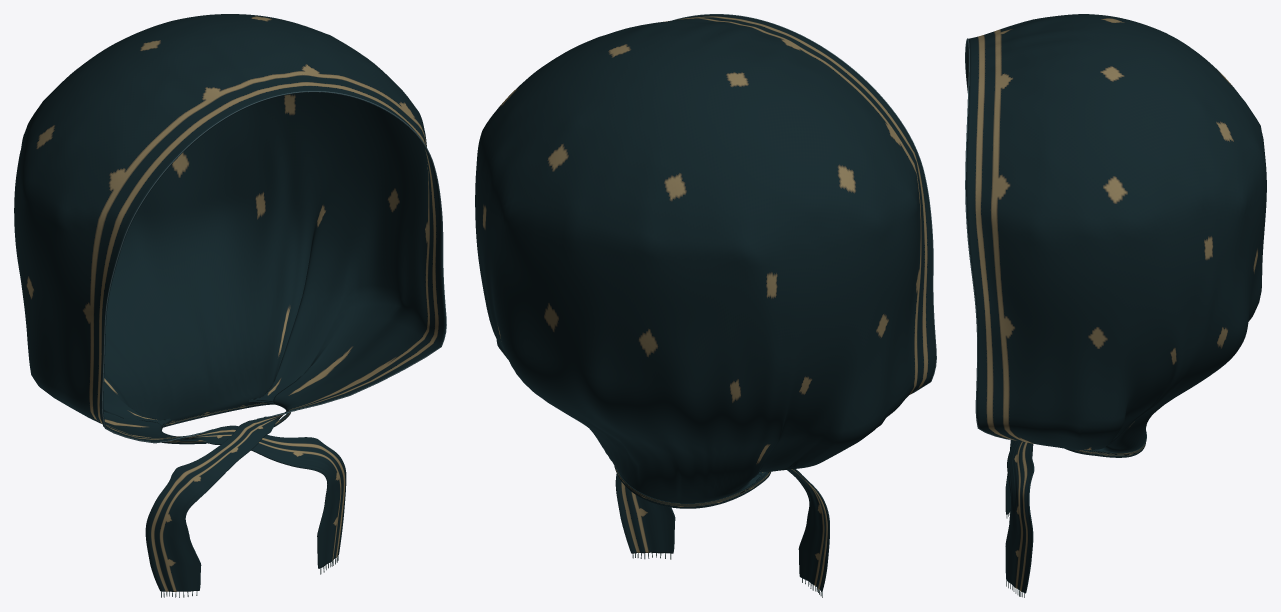
Rendered from Masculine-curly-top-tshirt-pashmina249-headgear.glb.
3 renders of one model, left to right at view 1: azimuth 30°, elevation 25°; view 2: azimuth 150°, elevation 25°; view 3: azimuth 270°, elevation 25°, orthographic. The views are drawn at different scales.
Visible parts, largest first — view 1: 226 headgear / Headwear / continuous woven pashmina239, 226 headgear / Headwear / face edge239; view 2: 226 headgear / Headwear / continuous woven pashmina239, 226 headgear / Headwear / face edge239; view 3: 226 headgear / Headwear / continuous woven pashmina239, 226 headgear / Headwear / face edge239.
Part boxes in pixels (bbox=[...]): 226 headgear / Headwear / continuous woven pashmina239: bbox=[14, 14, 445, 591]; 226 headgear / Headwear / face edge239: bbox=[102, 91, 446, 443]; 226 headgear / Headwear / continuous woven pashmina239: bbox=[475, 14, 935, 591]; 226 headgear / Headwear / face edge239: bbox=[672, 14, 936, 393]; 226 headgear / Headwear / continuous woven pashmina239: bbox=[965, 14, 1266, 593]; 226 headgear / Headwear / face edge239: bbox=[965, 38, 1011, 439].
Bounding box in the file's own units: 1.08 × 1.45 × 0.762.
3 materials, 1 textured.
